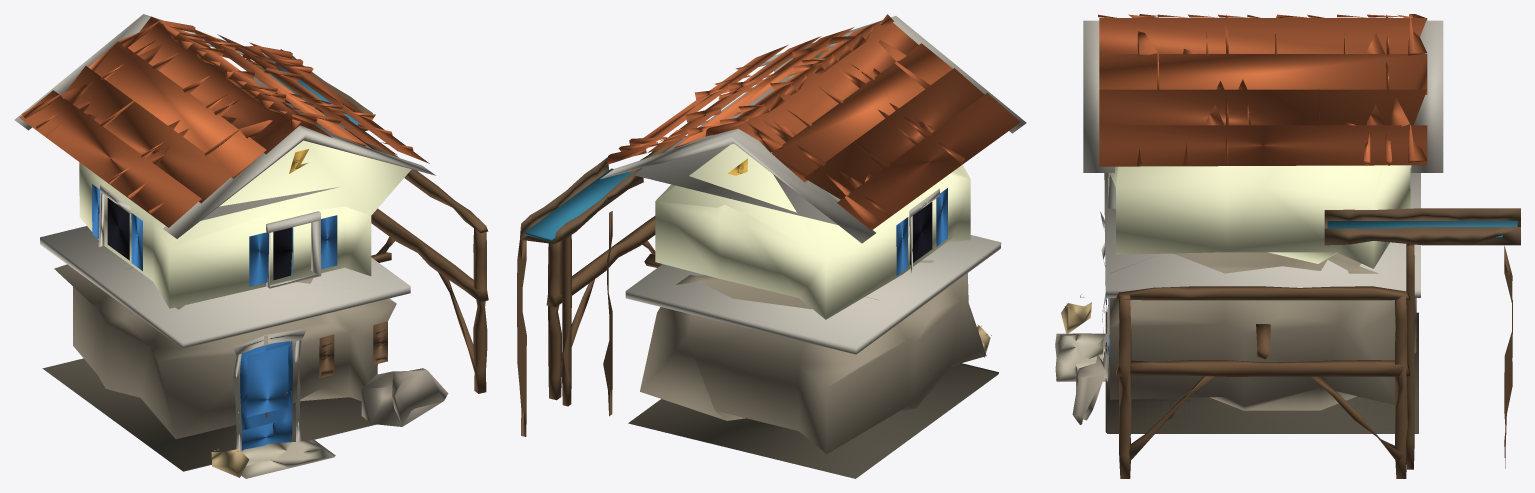
File: country_watermill.glb
The picture shows the model from 3 angles, left to right: view 1: azimuth 30°, elevation 25°; view 2: azimuth 150°, elevation 25°; view 3: azimuth 270°, elevation 25°; orthographic projection. The views are drawn at different scales.
Visible parts, largest first — view 1: marble, plaster, stone, terracotta0, terracotta1, terracotta2, stone_dark, azure_wood, wood_dark, rock, paving, dark (+1 smaller); view 2: stone, plaster, marble, terracotta0, terracotta1, stone_dark, terracotta2, wood_dark, plank, water.001, azure_wood, dark; view 3: stone, terracotta0, plaster, wood_dark, marble, terracotta1, terracotta2, stone_dark, plank, paving, rock, water.001 (+1 smaller).
Part boxes in pixels (box(x1,y1,x2,y2)): marble: box(14, 14, 435, 451); plaster: box(79, 140, 411, 308); stone: box(54, 264, 396, 439); terracotta0: box(19, 16, 429, 227); terracotta1: box(22, 20, 413, 214); terracotta2: box(44, 29, 375, 183); stone_dark: box(42, 358, 376, 471); azure_wood: box(92, 184, 337, 450); wood_dark: box(319, 134, 488, 393); rock: box(361, 368, 448, 426); paving: box(241, 438, 335, 478); dark: box(107, 198, 292, 280); stone: box(640, 260, 986, 453); plaster: box(655, 47, 970, 319); marble: box(600, 16, 1026, 354); terracotta0: box(605, 20, 1020, 230); terracotta1: box(607, 14, 984, 226); stone_dark: box(628, 363, 998, 478); terracotta2: box(629, 27, 965, 182); wood_dark: box(517, 136, 685, 436); plank: box(520, 157, 643, 243); water.001: box(524, 168, 631, 241); azure_wood: box(896, 188, 947, 275); dark: box(910, 202, 932, 264); stone: box(1109, 252, 1416, 410); terracotta0: box(1099, 14, 1427, 166); plaster: box(1109, 165, 1410, 268); wood_dark: box(1106, 244, 1512, 478); marble: box(1083, 20, 1443, 368); terracotta1: box(1098, 14, 1427, 165); terracotta2: box(1099, 14, 1427, 165); stone_dark: box(1105, 311, 1418, 433); plank: box(1324, 208, 1520, 245); paving: box(1055, 333, 1108, 381); rock: box(1072, 354, 1104, 424); water.001: box(1327, 221, 1517, 238).
Bounding box in the file's own units: 6.88 × 6.5 × 7.59.
